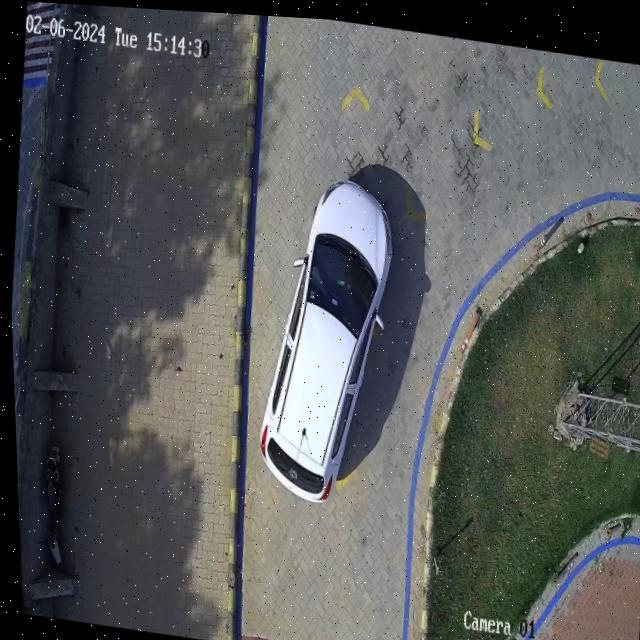car: (254, 176, 390, 501)
